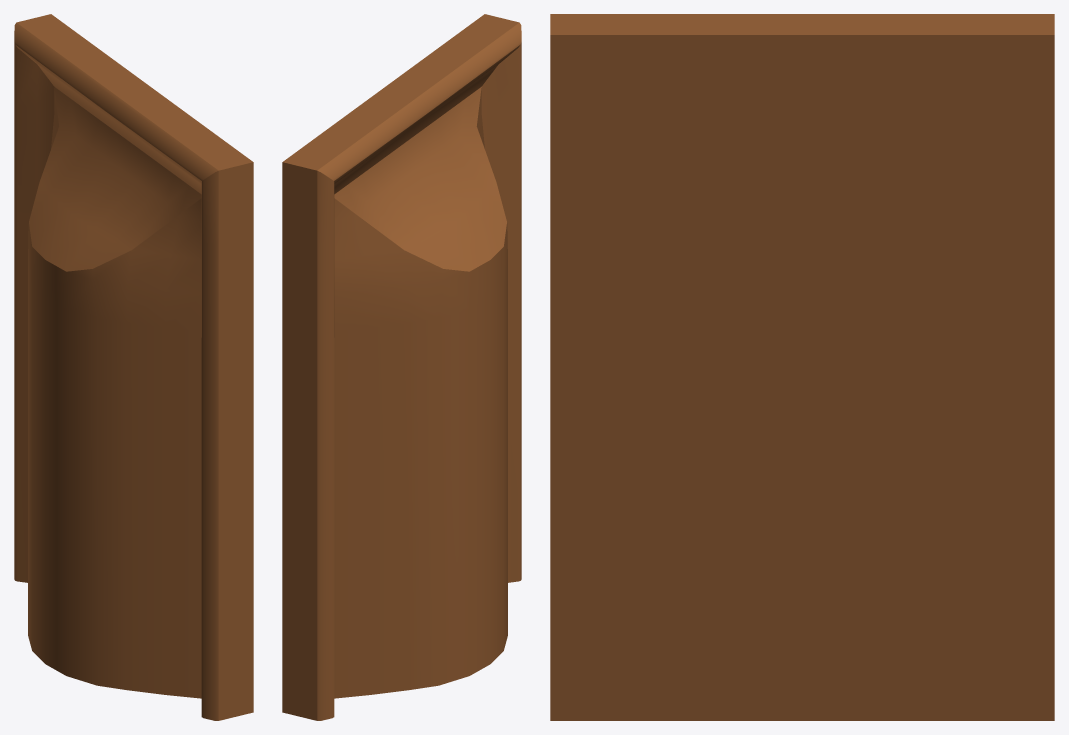
File: CI_022_wall_deco_vert_1_joint_var3.glb
The picture shows the model from 3 angles, left to right: view 1: azimuth 30°, elevation 25°; view 2: azimuth 150°, elevation 25°; view 3: azimuth 270°, elevation 25°; orthographic projection. The views are drawn at different scales.
Visible parts, largest first — view 1: wall_deco; view 2: wall_deco; view 3: wall_deco.
Boxes of the visible parts, <box> form: wall_deco: <box>14,14,253,720</box>; wall_deco: <box>282,14,521,720</box>; wall_deco: <box>550,14,1054,720</box>.
Size of the model in its own units: 0.2282 by 1.12 by 0.75.
